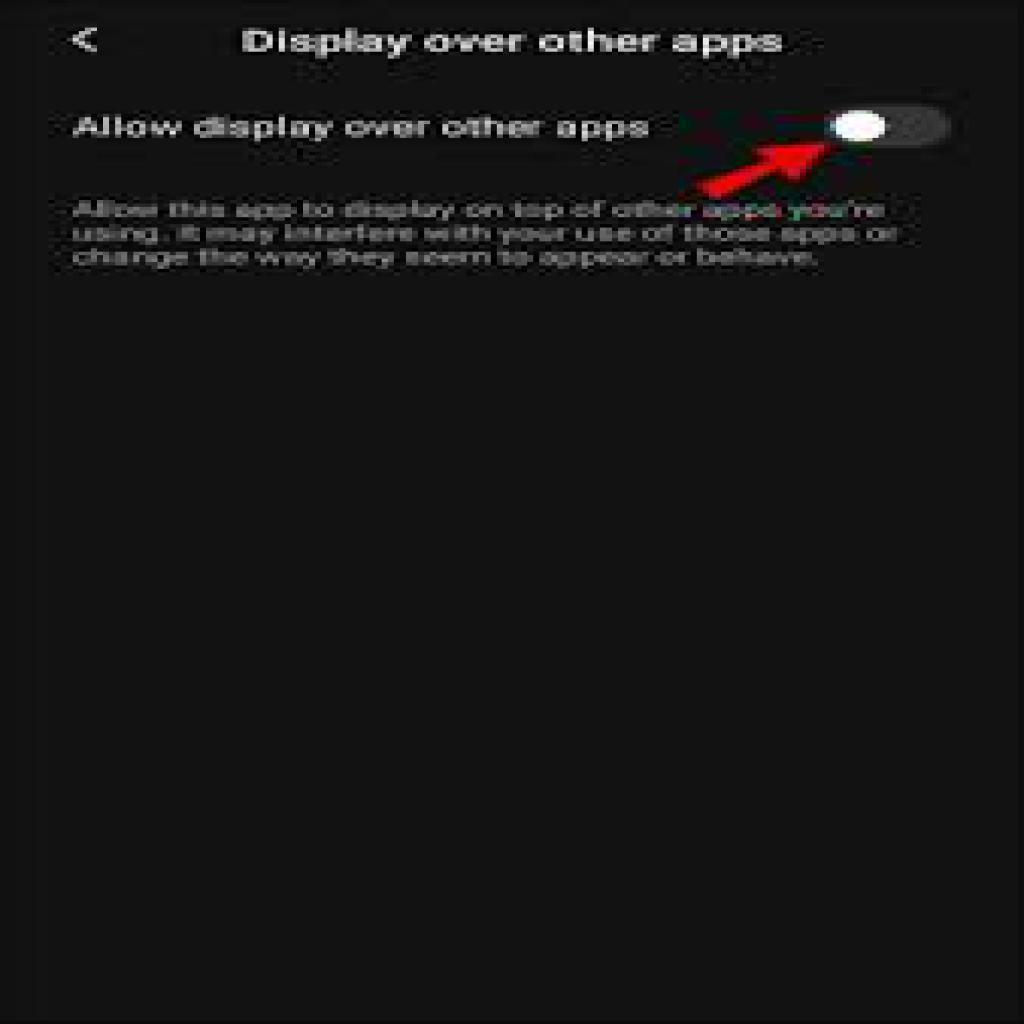icon: (67, 26, 99, 55)
label: (66, 109, 652, 144), (240, 27, 787, 58)
switch: (824, 105, 952, 151)
